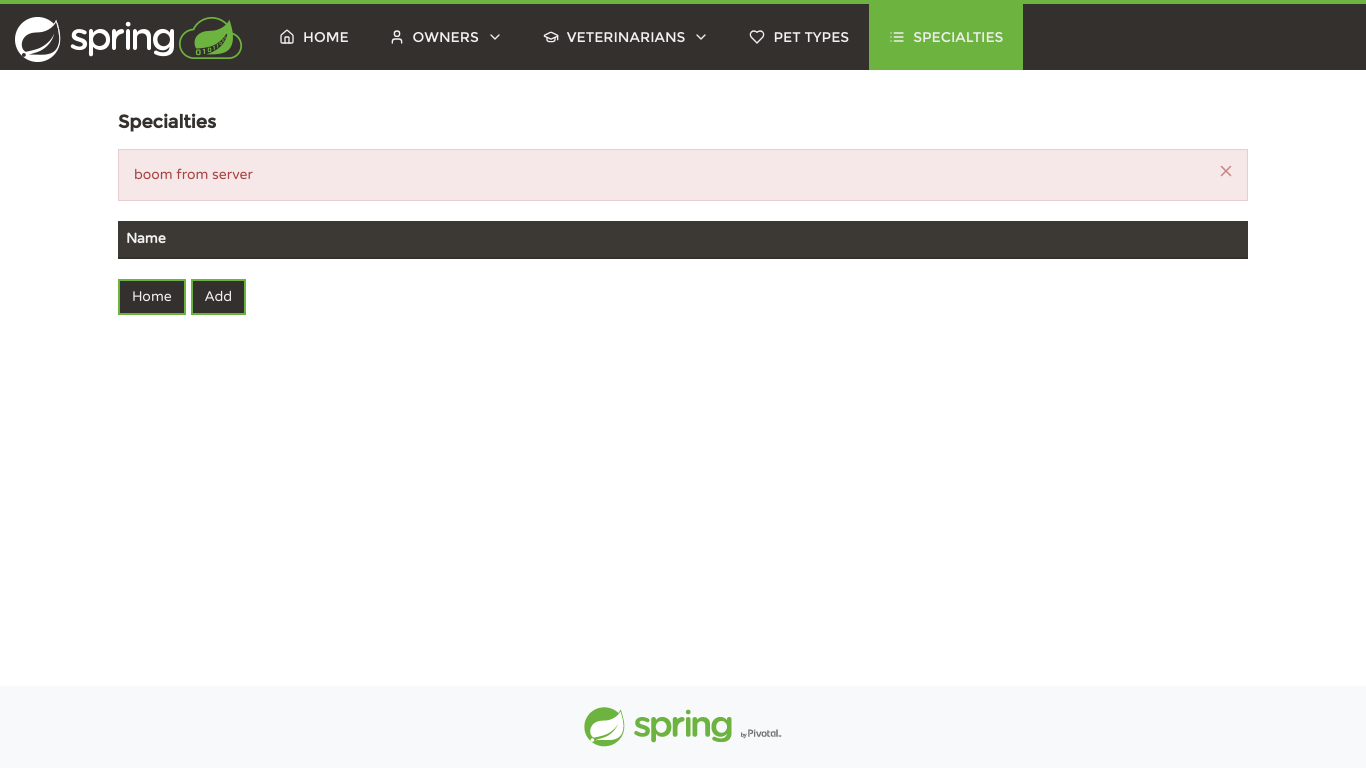
Test: SpecialtyListPage › surfaces a Spring errors header message in a dismissable alert
This screenshot has width=1366, height=768.
Expected: the message reads "boom from server", [134,167,253,183]
Expected: the button "Add" is shown, [191,279,246,315]
Click the button named "dismiss error": coordinates (1226, 171) [1213,158,1239,184]
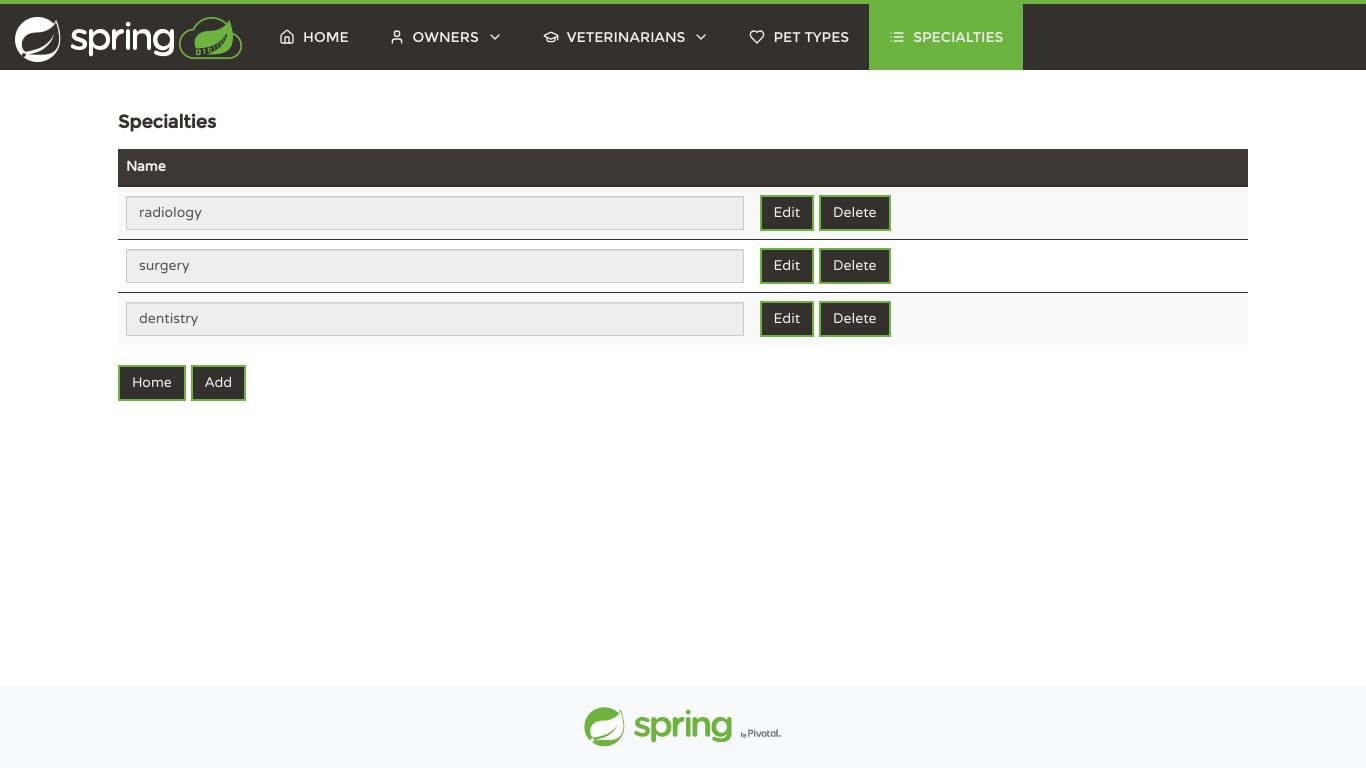
Expected: the field showing "radiology" is shown, [126,196,744,230]
Expected: the message "boom from server" is gone
